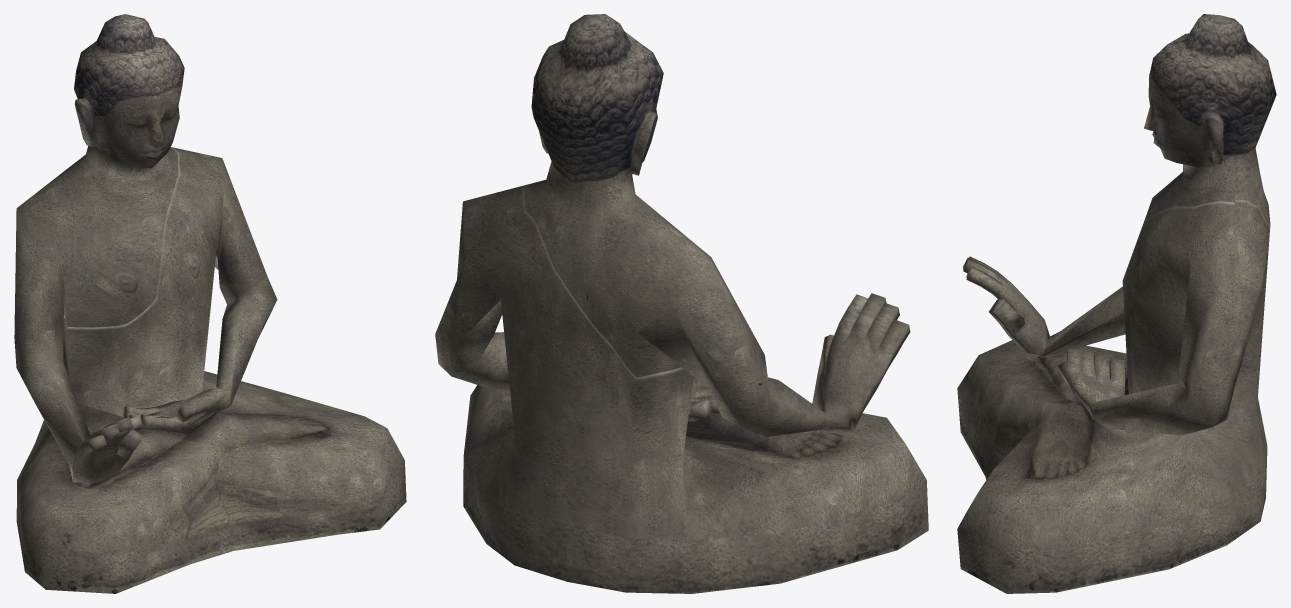
Rendered from Patung_Utara.FBX.
3 renders of one model, left to right at view 1: azimuth 30°, elevation 25°; view 2: azimuth 150°, elevation 25°; view 3: azimuth 270°, elevation 25°, orthographic. The views are drawn at different scales.
Visible parts, largest first — view 1: Patung_Utara; view 2: Patung_Utara; view 3: Patung_Utara.
Boxes of the visible parts, left/top/right/bottom form: Patung_Utara: left=14, top=14, right=406, bottom=593; Patung_Utara: left=435, top=14, right=928, bottom=593; Patung_Utara: left=957, top=14, right=1276, bottom=593.
Size of the model in its own units: 0.7908 by 0.9594 by 0.572.
